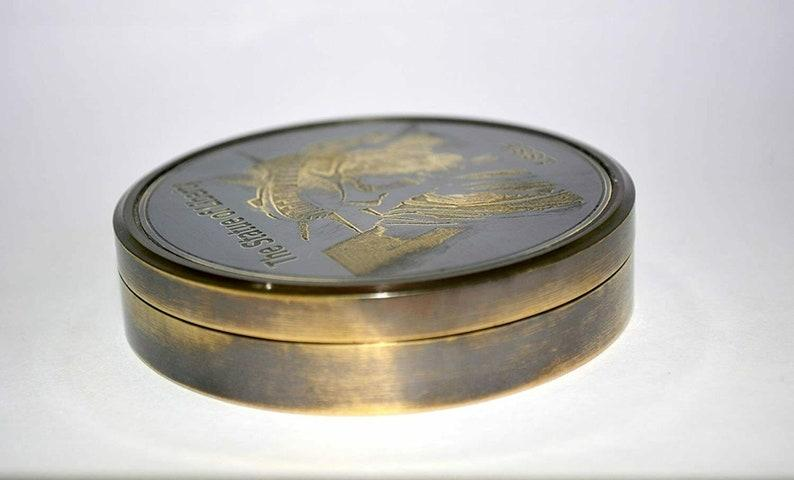metal: (113, 117, 636, 414)
